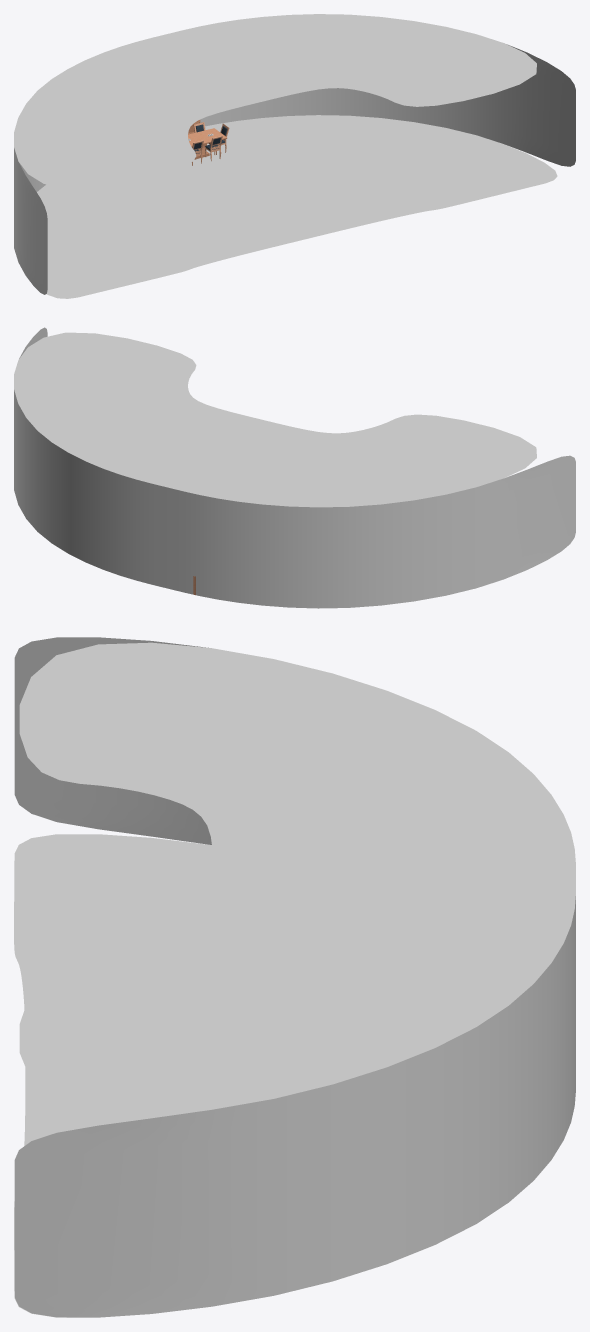
File: obj_dining_table_42b598.glb
The picture shows the model from 3 angles, top to bottom: view 1: azimuth 30°, elevation 25°; view 2: azimuth 150°, elevation 25°; view 3: azimuth 270°, elevation 25°; orthographic projection. The views are drawn at different scales.
Parts seen in each view (by area): view 1: obj_dining_table_42b598; view 2: obj_dining_table_42b598; view 3: obj_dining_table_42b598.
Boxes of the visible parts, <box> form: obj_dining_table_42b598: <box>14,14,575,298</box>; obj_dining_table_42b598: <box>14,327,575,608</box>; obj_dining_table_42b598: <box>14,637,575,1317</box>.
Bounding box in the file's own units: 4.1 × 0.75 × 1.94.
Materials: 6 (4 with a texture image).
